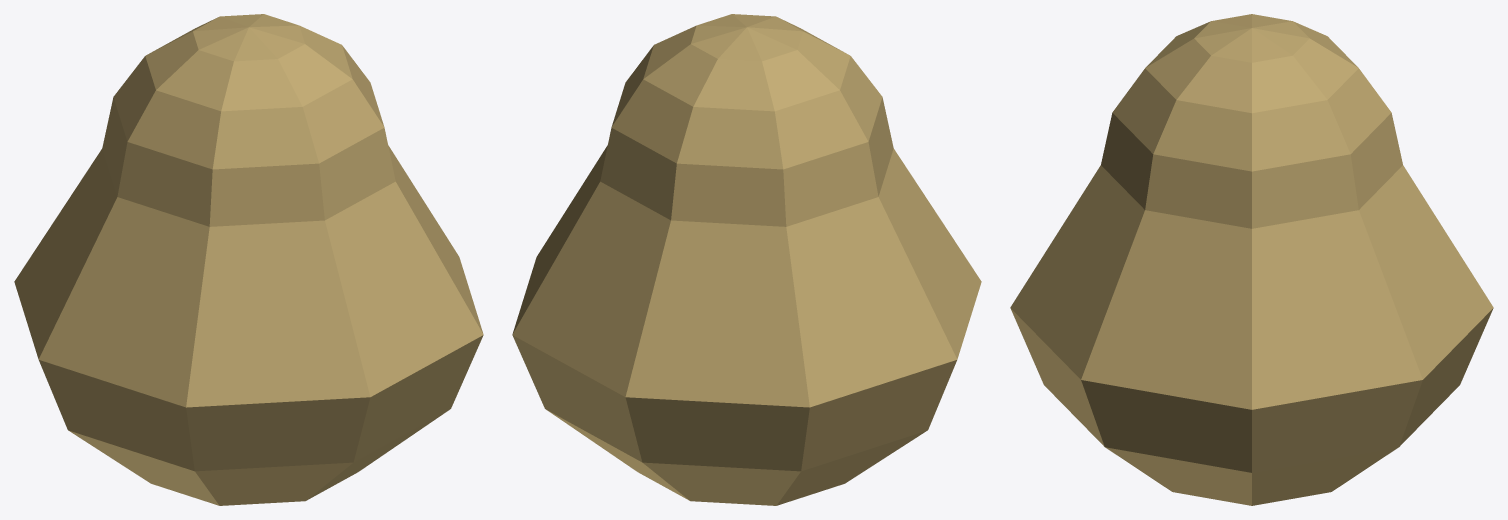
File: ampull.fbx
The picture shows the model from 3 angles, left to right: view 1: azimuth 30°, elevation 25°; view 2: azimuth 150°, elevation 25°; view 3: azimuth 270°, elevation 25°; orthographic projection.
Visible parts, largest first — view 1: Sphere; view 2: Sphere; view 3: Sphere.
Boxes of the visible parts, x1,y1,x2,y2 form: Sphere: (14, 14, 483, 505); Sphere: (512, 14, 981, 505); Sphere: (1010, 14, 1493, 505).
Bounding box in the file's own units: 185 × 197 × 185.
